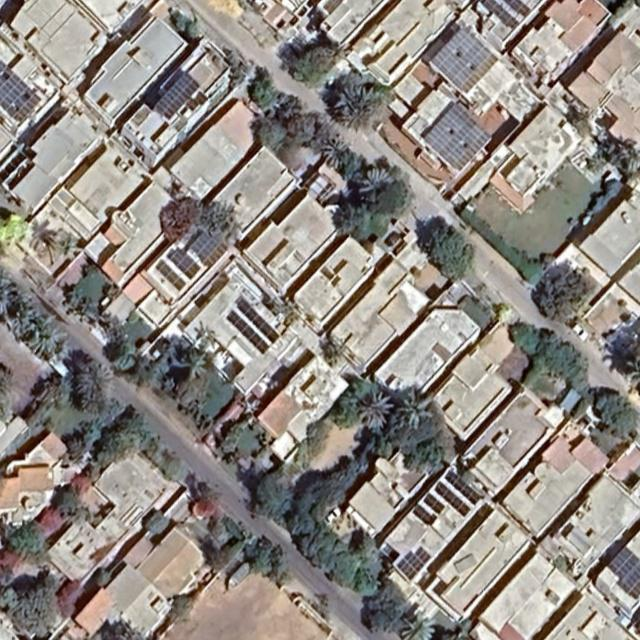solar panel: (423, 103, 492, 172), (430, 27, 498, 95), (0, 60, 42, 124), (155, 73, 200, 119), (603, 546, 640, 600), (225, 310, 269, 354), (236, 300, 280, 344), (188, 228, 229, 269), (395, 542, 432, 581), (443, 470, 482, 505), (433, 482, 470, 517), (167, 247, 201, 280), (482, 0, 518, 29), (155, 260, 187, 291), (413, 502, 439, 527), (423, 493, 445, 514), (503, 0, 530, 17)
